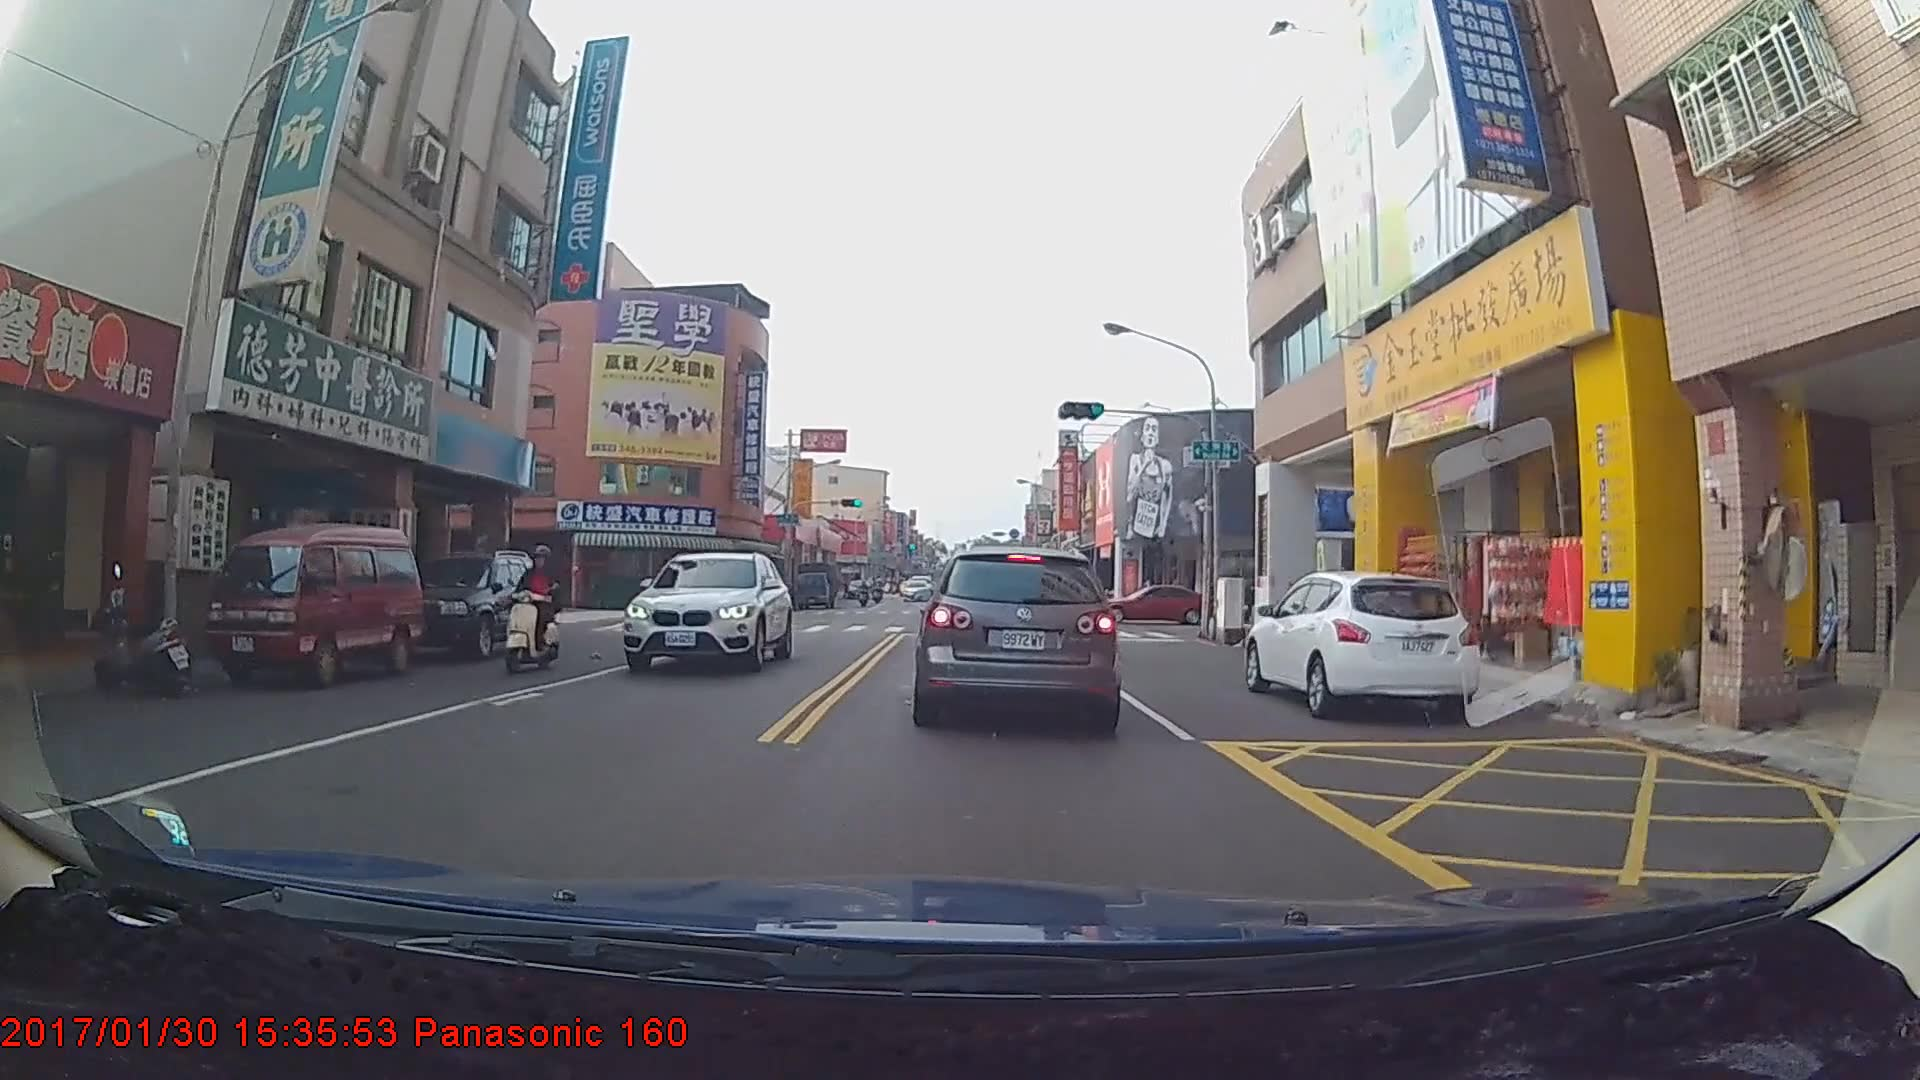rider: (494, 544, 562, 682), (847, 576, 867, 605)
vehicle: (912, 542, 1119, 730), (1242, 568, 1478, 725), (207, 524, 426, 687), (619, 550, 793, 673), (381, 550, 548, 665), (1097, 580, 1207, 622), (787, 557, 839, 606), (901, 577, 931, 599)
